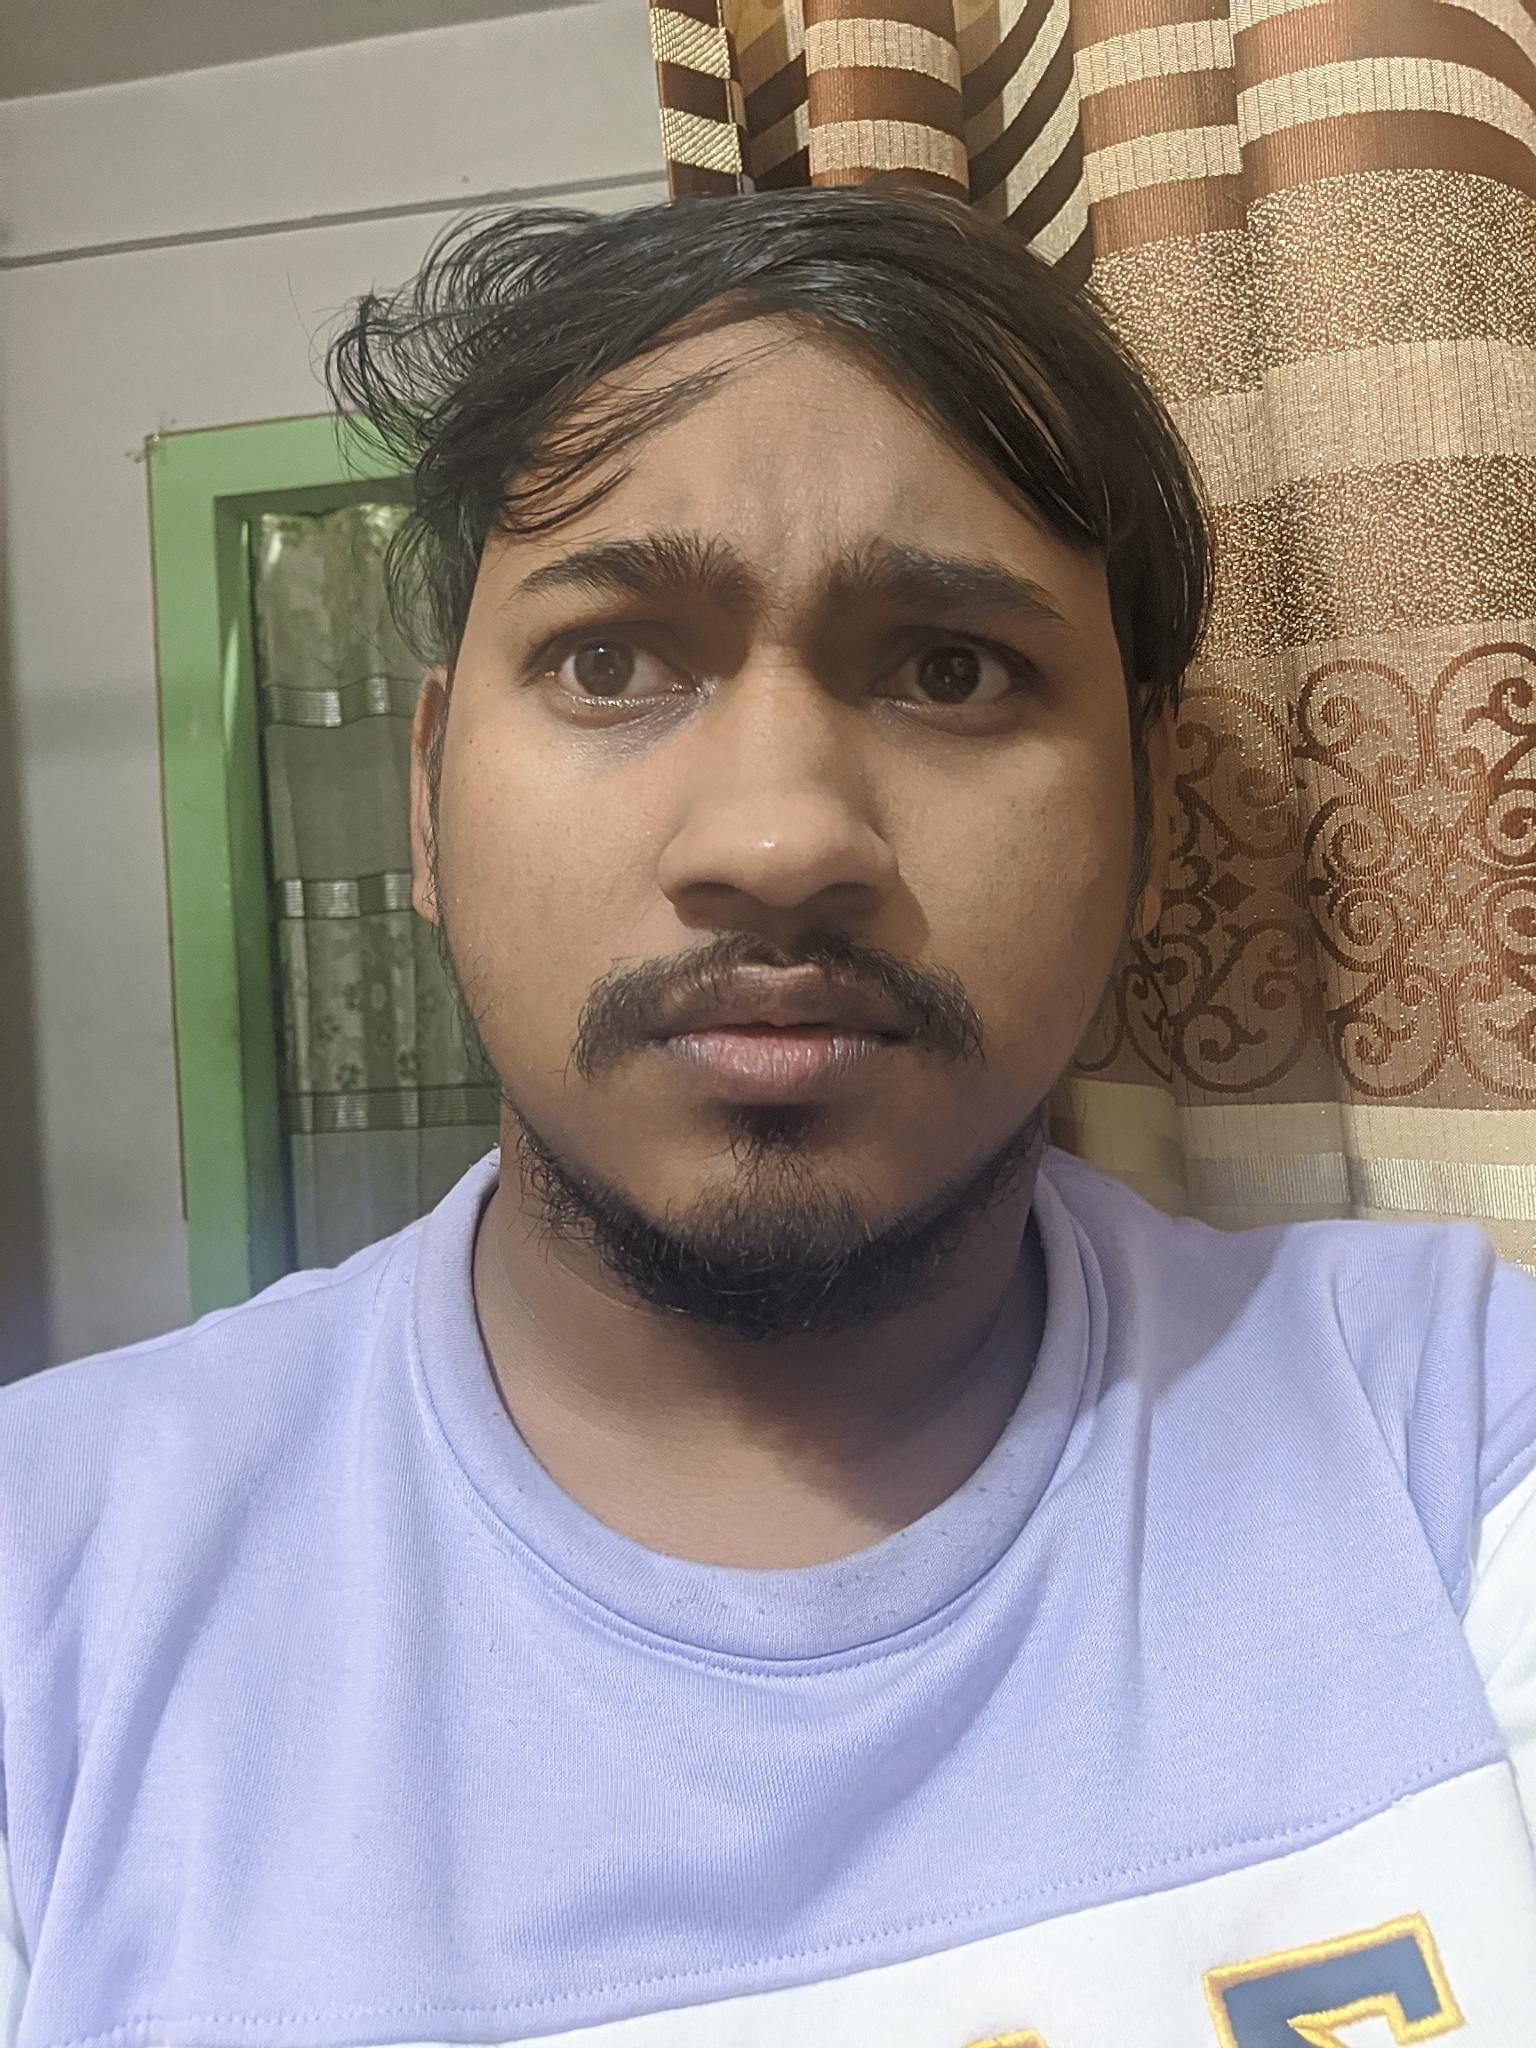Angry: (440, 427, 1137, 1205)
